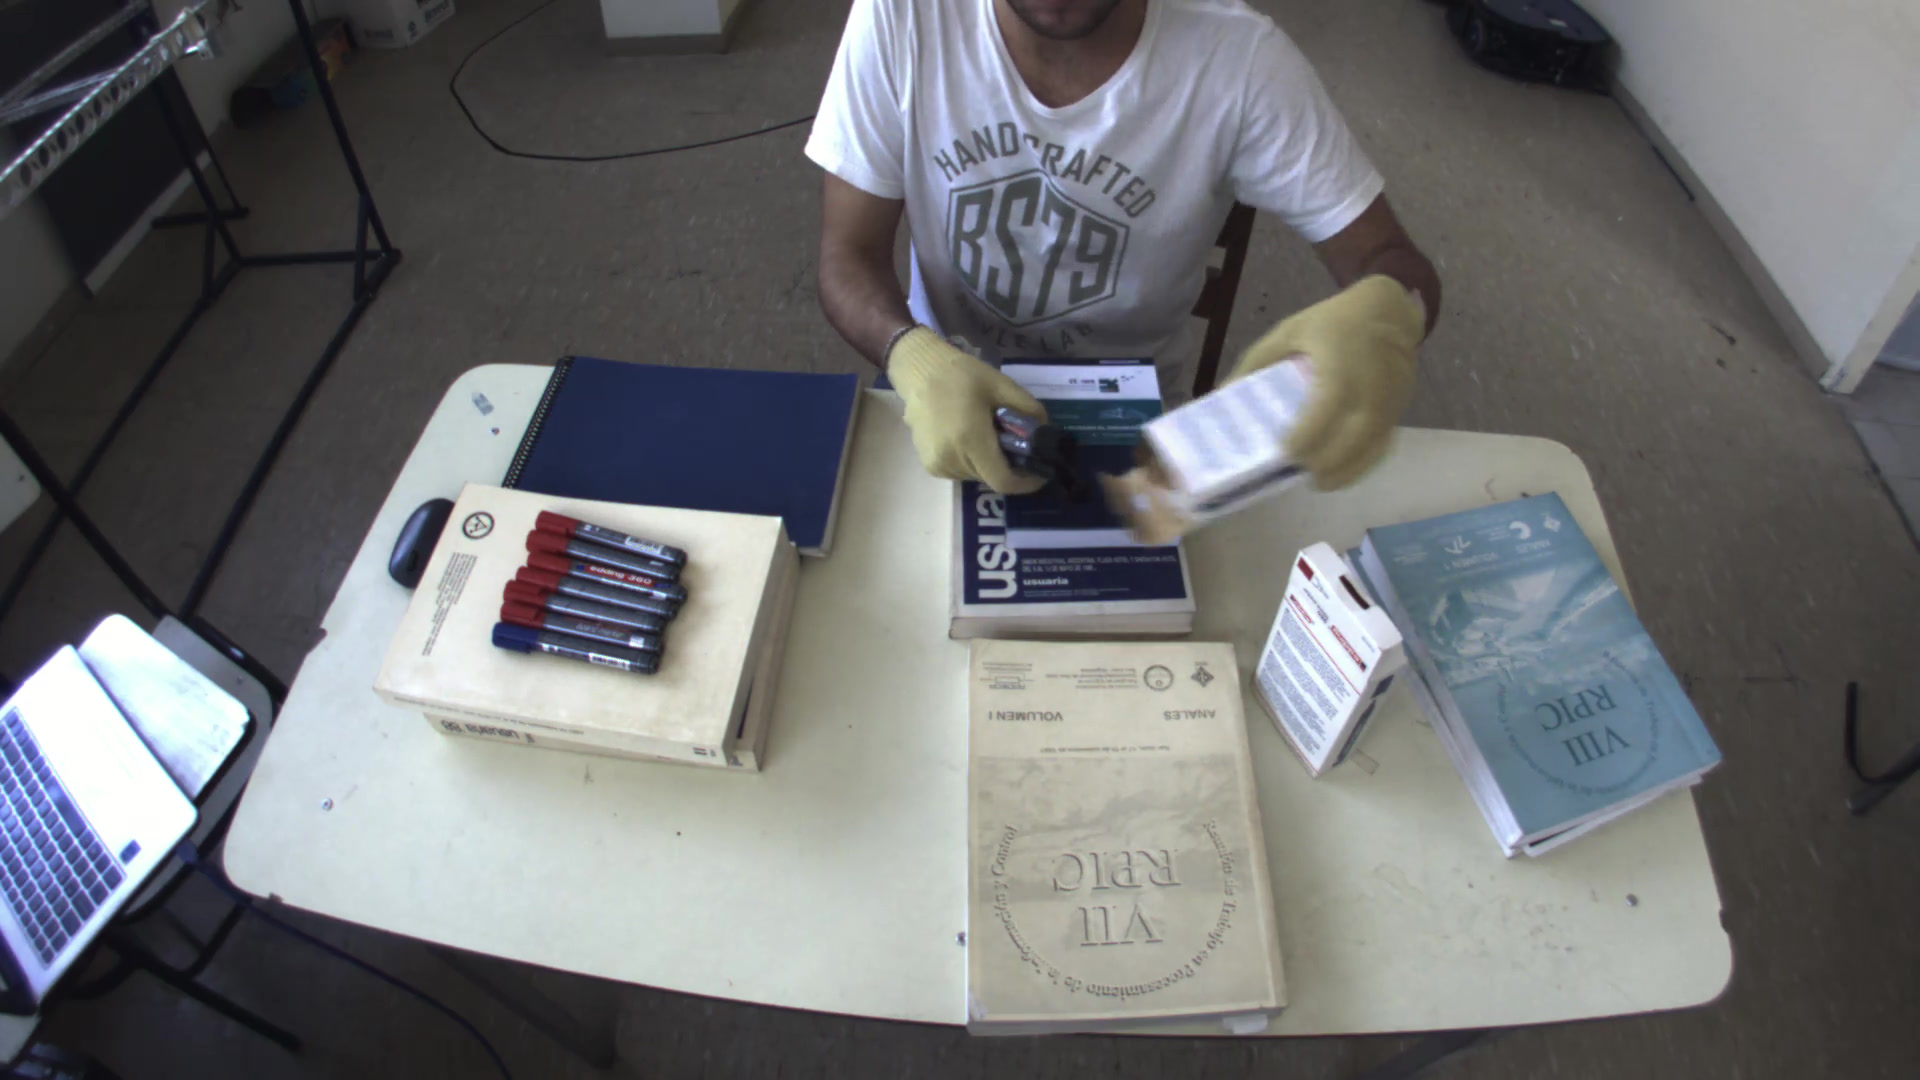hand: (1236, 264, 1440, 495), (873, 322, 1062, 500)
